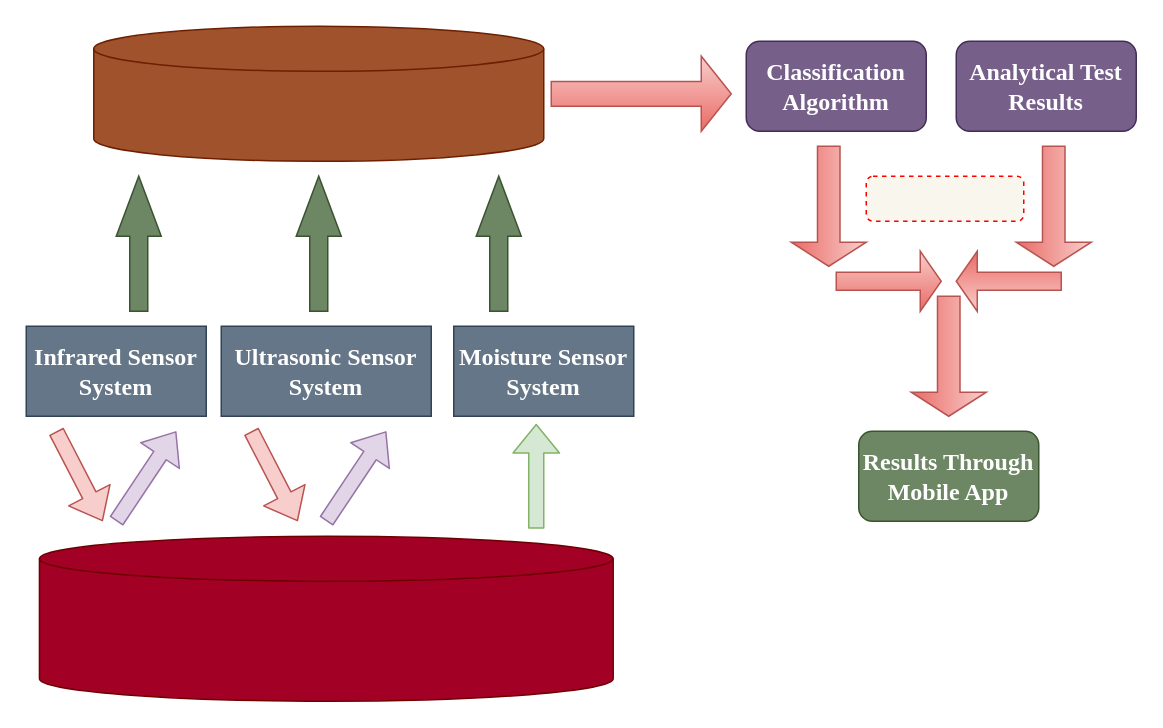
Some shapes in this 1163 by 728 pixel diagram are drawn without their labels. The shapes that lost their labels are listed below. From the top down, each one's centre as x and y in pixels, then its label:
the point at 318,93: Database
the point at 944,198: Comparison
the point at 325,618: Collected Sample
